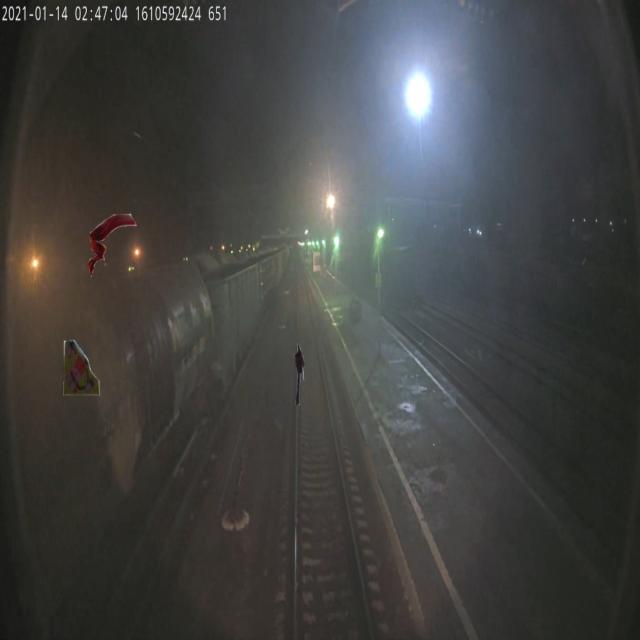floating object: (88, 214, 137, 278), (61, 336, 100, 400), (294, 342, 304, 406)
